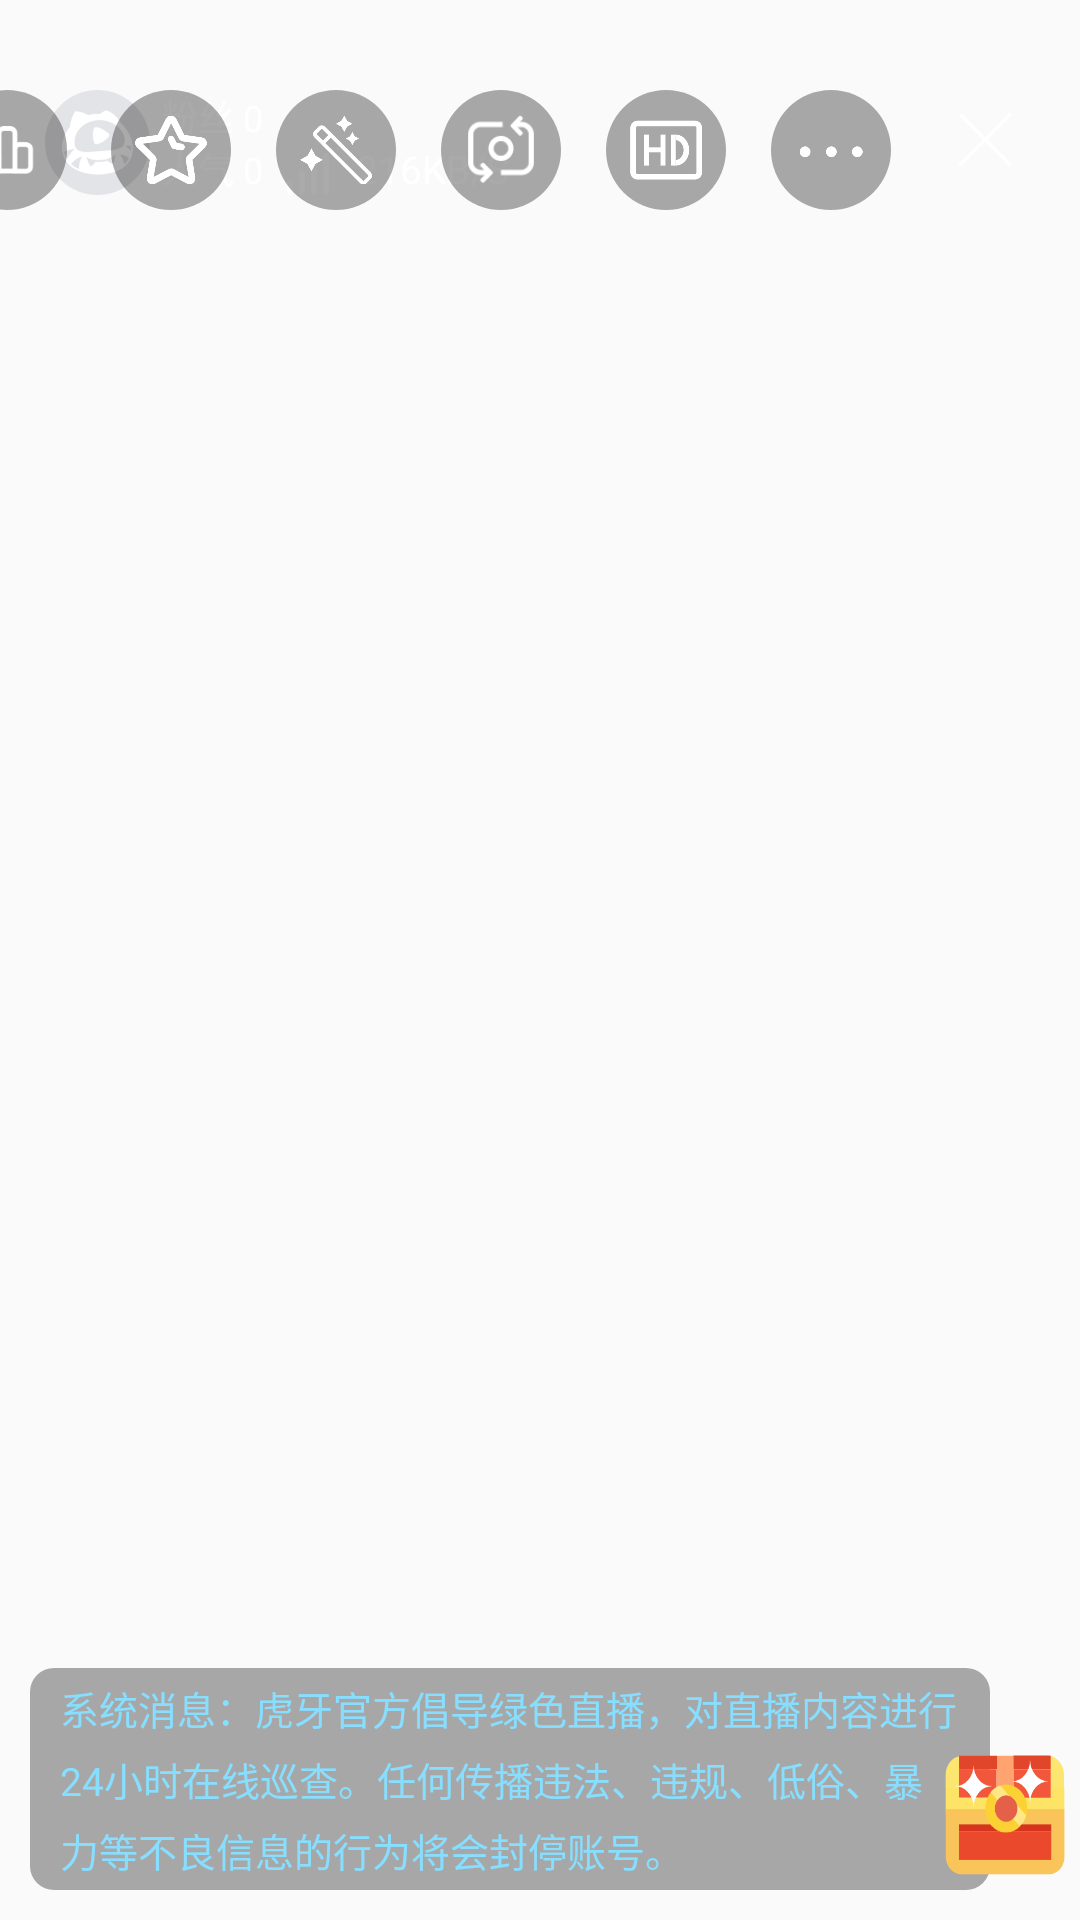

Icons on this 1080x1920 Android screen, each with the point to tap as (x=x, y=y):
more: (x=831, y=150)
quality: (x=666, y=150)
star: (x=171, y=150)
switch camera: (x=501, y=150)
treasure: (x=1005, y=1815)
